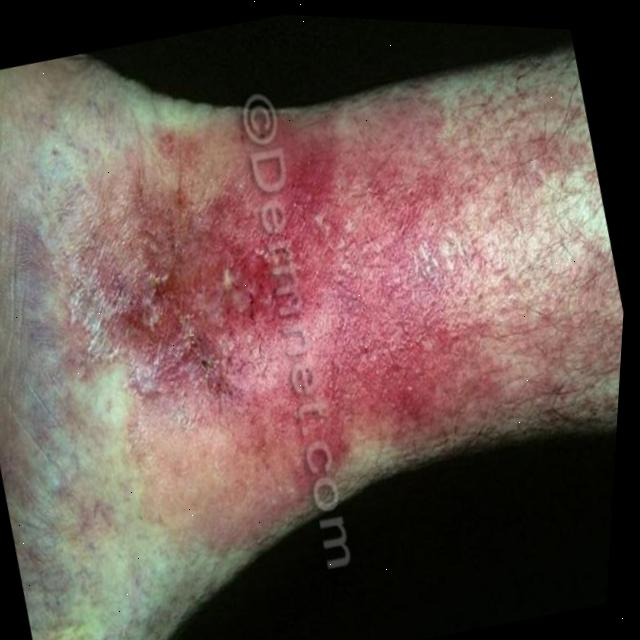Eczema: (75, 128, 479, 501)
